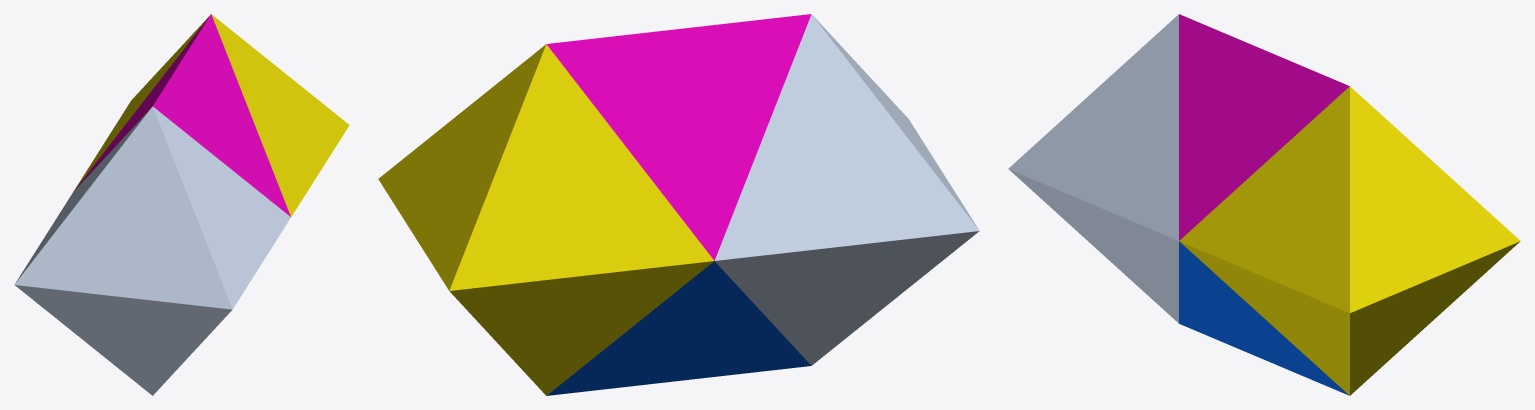
The model's file is octTet_5.glb.
3 views of the same model, side by side, from view 1: azimuth 30°, elevation 25°; view 2: azimuth 150°, elevation 25°; view 3: azimuth 270°, elevation 25° (orthographic). The views are drawn at different scales.
Size of the model in its own units: 6 by 4 by 6.
